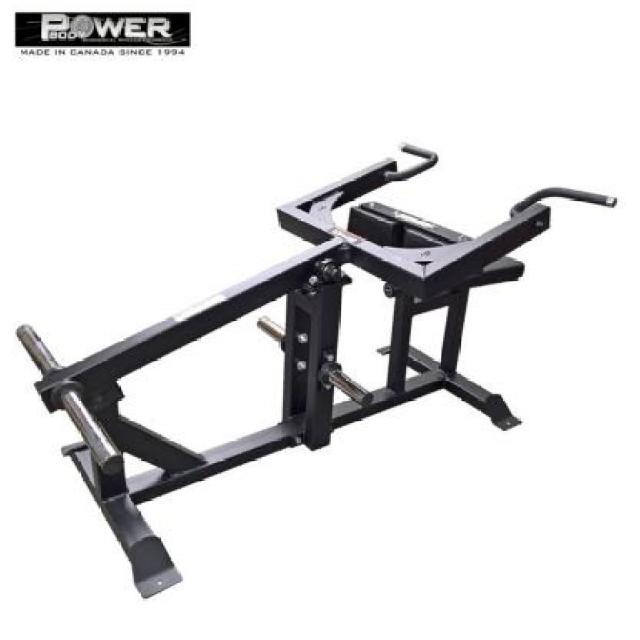seated dip machine: (17, 141, 618, 597)
